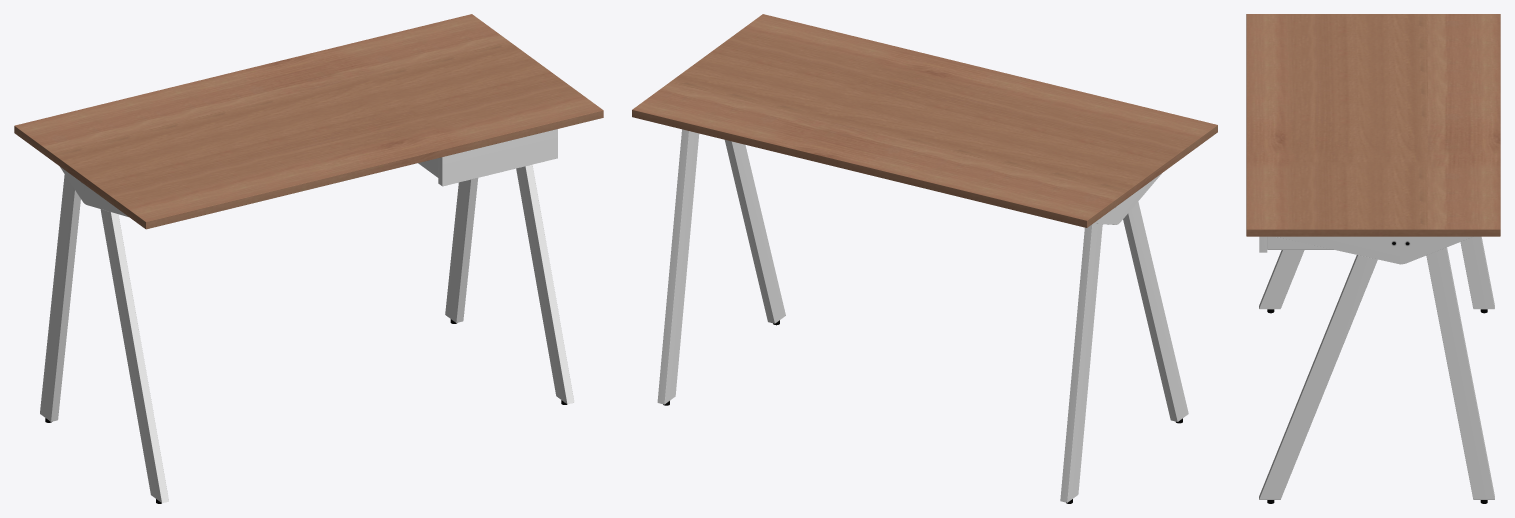
File: table_30_02.001.fbx
3 views of the same model, side by side, from view 1: azimuth 30°, elevation 25°; view 2: azimuth 150°, elevation 25°; view 3: azimuth 270°, elevation 25° (orthographic). The views are drawn at different scales.
Parts seen in each view (by area): view 1: table_30_02.001; view 2: table_30_02.001; view 3: table_30_02.001.
Boxes of the visible parts, x1,y1,x2,y2 form: table_30_02.001: (14, 14, 603, 503); table_30_02.001: (632, 14, 1217, 503); table_30_02.001: (1246, 14, 1500, 503).
Bounding box in the file's own units: 120 × 73.9 × 59.6.
Materials: 1 (1 with a texture image).
